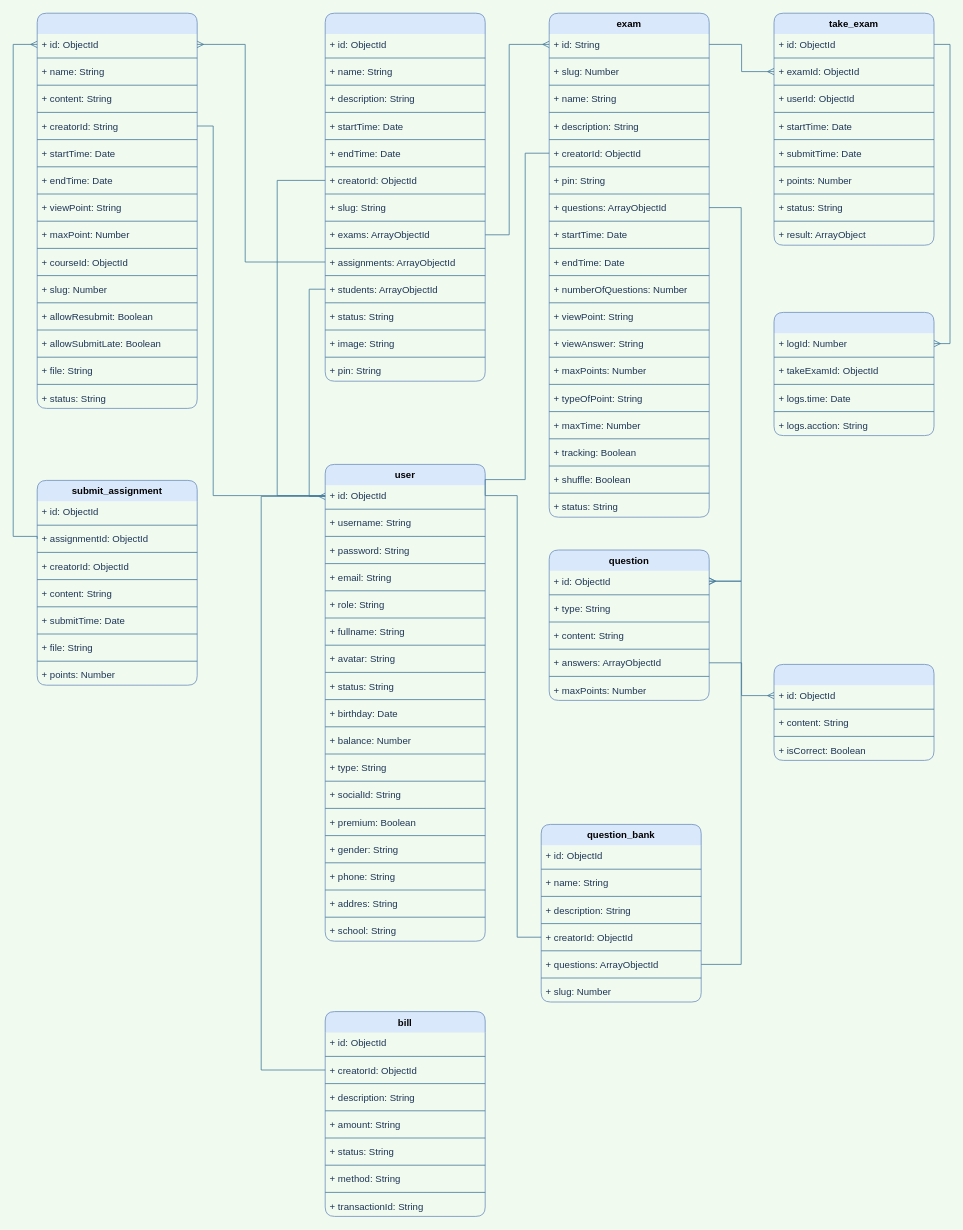
This 963x1230 diagram has some shape labels left out. Each missing label, with the box of its shape:
answer: (773, 664, 934, 760)
assignment: (36, 12, 197, 408)
course: (324, 12, 485, 381)
exam_log: (773, 312, 934, 436)
